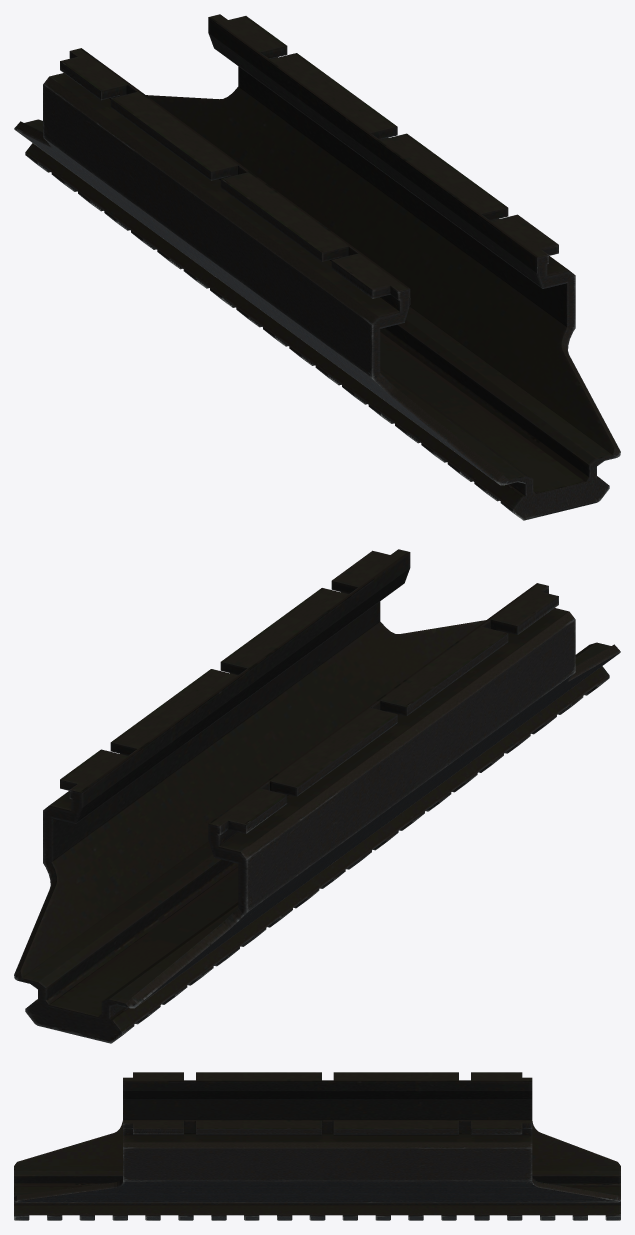
3 views of the same model, one above another, from view 1: azimuth 30°, elevation 25°; view 2: azimuth 150°, elevation 25°; view 3: azimuth 270°, elevation 25° (orthographic). The views are drawn at different scales.
Visible parts, largest first — view 1: TW_5cdeaca5d7f00c00b61c4b70_PZ_Import; view 2: TW_5cdeaca5d7f00c00b61c4b70_PZ_Import; view 3: TW_5cdeaca5d7f00c00b61c4b70_PZ_Import.
Part boxes in pixels (box(x1,y1,x2,y2)): TW_5cdeaca5d7f00c00b61c4b70_PZ_Import: box(14, 14, 620, 520); TW_5cdeaca5d7f00c00b61c4b70_PZ_Import: box(14, 549, 620, 1043); TW_5cdeaca5d7f00c00b61c4b70_PZ_Import: box(14, 1072, 620, 1220).
Size of the model in its own units: 0.0257 by 0.1066 by 0.0211.
1 material, 1 textured.
